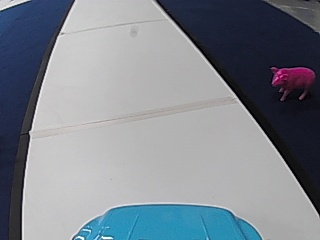pig: (266, 62, 315, 99)
